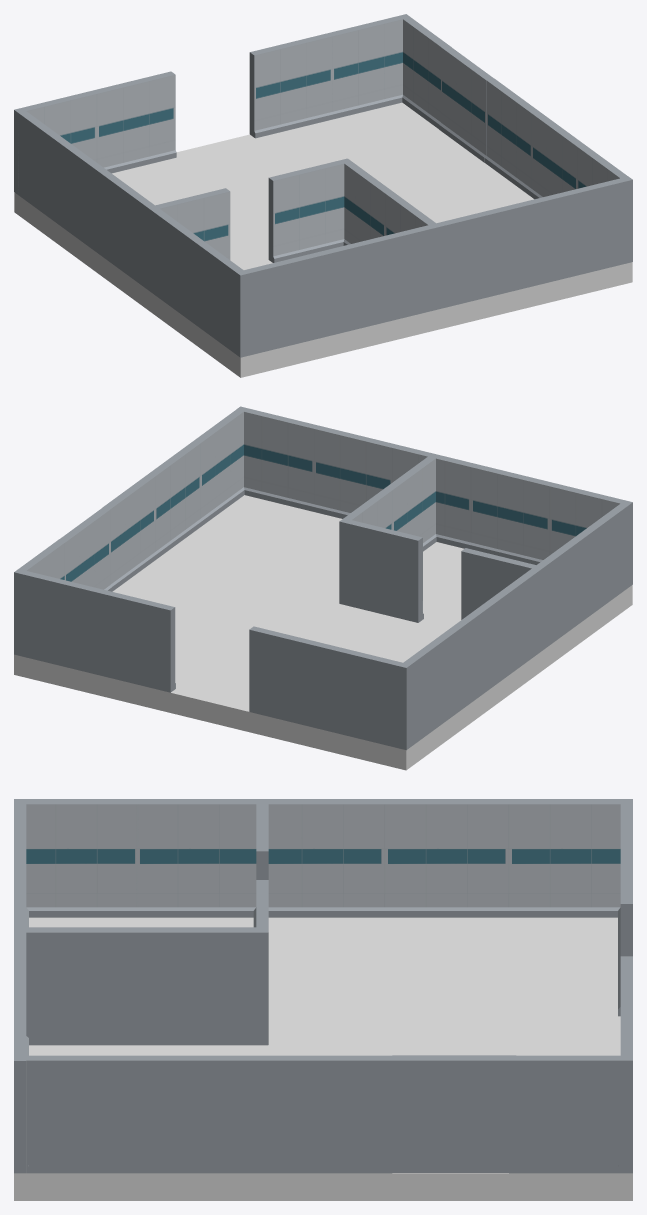
The model's file is start_room.glb.
3 views of the same model, one above another, from view 1: azimuth 30°, elevation 25°; view 2: azimuth 150°, elevation 25°; view 3: azimuth 270°, elevation 25° (orthographic). The views are drawn at different scales.
Visible parts, largest first — view 1: ground-col, wall_2m-col.004, wall_2m-col.011, wall_2m-col.013, wall_2m-col.012, wall_2m-col.014, wall_2m-col.015, wall_2m-col.002, wall_2m-col.022, wall_2m-col.005, wall_2m-col.018, wall_2m-col.019 (+12 smaller); view 2: ground-col, wall_2m-col.004, wall_2m-col.022, wall_2m-col.001, wall_2m-col.002, wall_2m-col.005, wall_2m-col.012, wall_2m-col.015, wall_2m-col.014, wall_2m-col.017, wall_2m-col.018, wall_2m-col.007 (+12 smaller); view 3: ground-col, wall_2m-col.024, wall_2m-col.017, wall_2m-col.018, wall_2m-col.007, wall_2m-col.009, wall_2m-col.016, wall_2m-col.021, wall_2m-col.008, wall_2m-col.019, wall_2m-col.010, wall_2m-col.020 (+12 smaller).
Part boxes in pixels (bbox=[...]): ground-col: bbox=[14, 102, 632, 377]; wall_2m-col.004: bbox=[249, 33, 333, 138]; wall_2m-col.011: bbox=[235, 253, 318, 357]; wall_2m-col.013: bbox=[393, 214, 476, 319]; wall_2m-col.012: bbox=[315, 234, 397, 338]; wall_2m-col.014: bbox=[472, 195, 554, 299]; wall_2m-col.015: bbox=[550, 176, 632, 280]; wall_2m-col.002: bbox=[93, 71, 176, 173]; wall_2m-col.022: bbox=[268, 158, 349, 262]; wall_2m-col.005: bbox=[328, 14, 410, 119]; wall_2m-col.018: bbox=[485, 78, 539, 195]; wall_2m-col.019: bbox=[439, 45, 493, 162]; ground-col: bbox=[14, 495, 632, 770]; wall_2m-col.004: bbox=[92, 588, 175, 692]; wall_2m-col.022: bbox=[339, 520, 423, 622]; wall_2m-col.001: bbox=[328, 645, 411, 749]; wall_2m-col.002: bbox=[249, 626, 331, 730]; wall_2m-col.005: bbox=[14, 569, 96, 673]; wall_2m-col.012: bbox=[470, 464, 553, 564]; wall_2m-col.015: bbox=[236, 406, 318, 511]; wall_2m-col.014: bbox=[313, 425, 396, 518]; wall_2m-col.017: bbox=[148, 441, 202, 558]; wall_2m-col.018: bbox=[102, 474, 156, 591]; wall_2m-col.007: bbox=[444, 599, 497, 716]; ground-col: bbox=[14, 917, 632, 1200]; wall_2m-col.024: bbox=[144, 927, 268, 1045]; wall_2m-col.017: bbox=[144, 1055, 268, 1173]; wall_2m-col.018: bbox=[268, 1055, 392, 1173]; wall_2m-col.007: bbox=[385, 799, 508, 917]; wall_2m-col.009: bbox=[136, 799, 260, 917]; wall_2m-col.016: bbox=[20, 1055, 144, 1173]; wall_2m-col.021: bbox=[20, 927, 144, 1045]; wall_2m-col.008: bbox=[261, 799, 384, 917]; wall_2m-col.019: bbox=[392, 1055, 516, 1172]; wall_2m-col.010: bbox=[14, 799, 138, 917]; wall_2m-col.020: bbox=[509, 1055, 632, 1173].
Size of the model in its own units: 19.97 by 4.99 by 19.96.
1 material, 1 textured.
